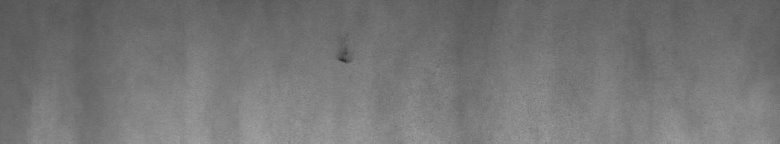fi: (336, 47, 355, 72)
